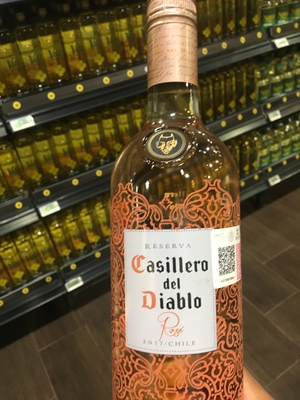casillero del diablo rose: (107, 6, 254, 400)
